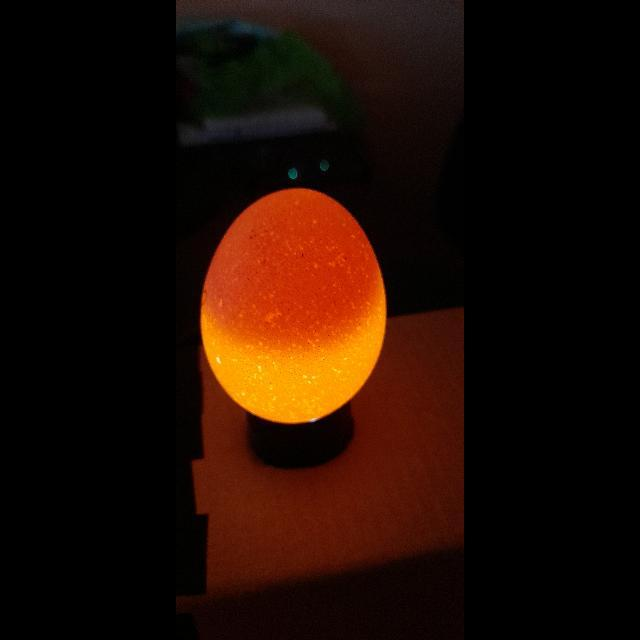Fertile: (205, 184, 388, 422)
